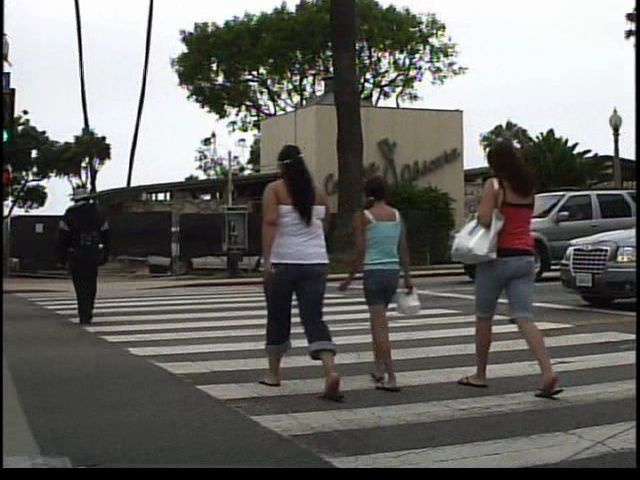person: (253, 133, 355, 405), (463, 136, 560, 404), (346, 172, 420, 396), (47, 181, 113, 333)
